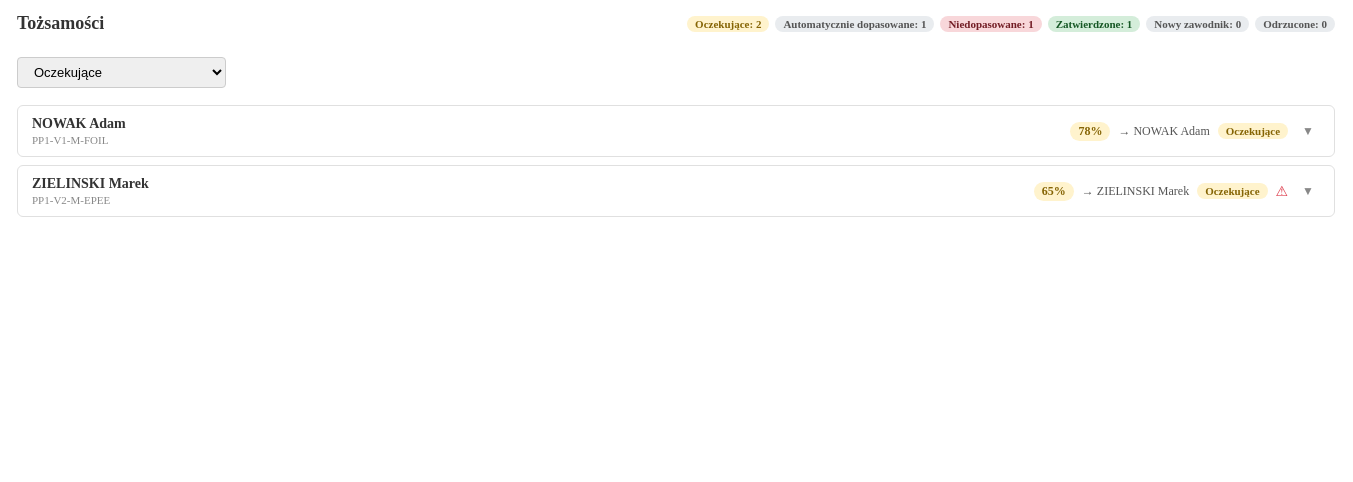
Test: IdentityManager (T9.7) › create new fencer option available in edit form
Open edit on first PENDING row
Click the 1st button "▼" at (1308, 131), box [1296,122,1320,140]
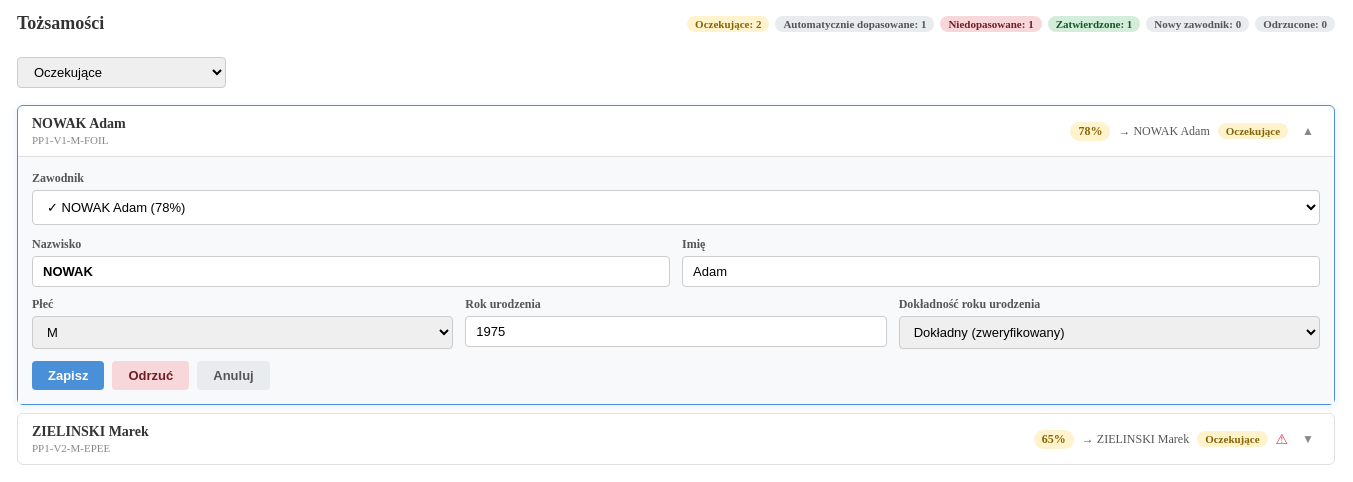
Expected: the 2nd dropdown is shown, [32,190,1320,225]
